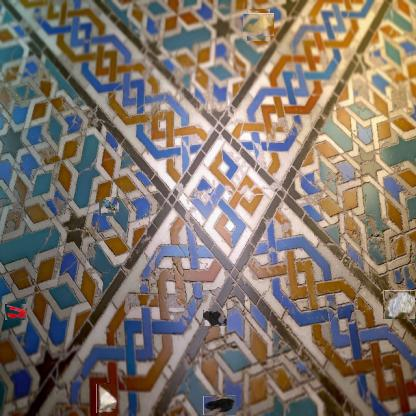dirty: (384, 290, 416, 319), (245, 11, 272, 39), (203, 396, 236, 416), (96, 383, 117, 413), (100, 197, 118, 215)
liquid: (203, 310, 227, 326), (5, 304, 27, 321)
